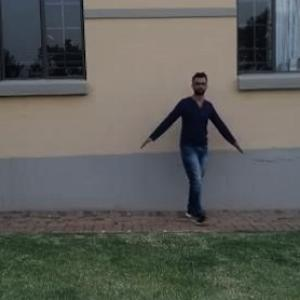land: (136, 77, 238, 233)
